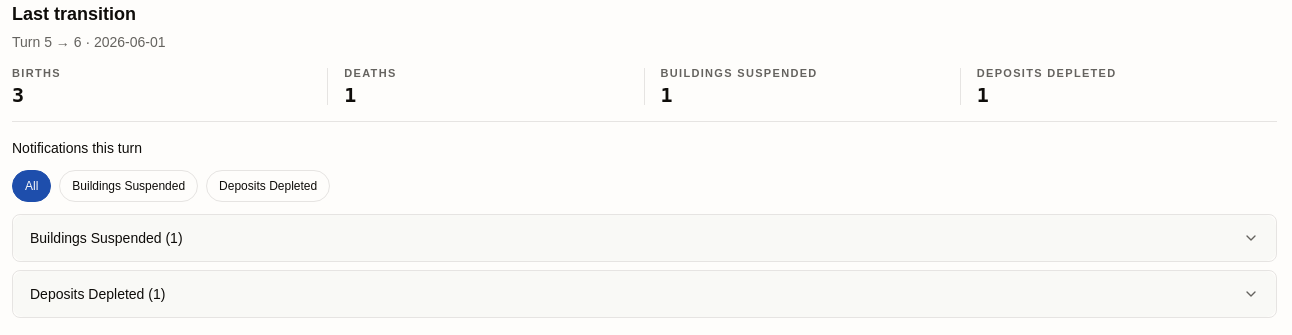
it: TurnTransitionOutcomeContent › resets filter when All chip is clicked
Click the button with aria-label "Filter by Buildings Suspended". click: (129, 186)
box: [59, 170, 198, 202]
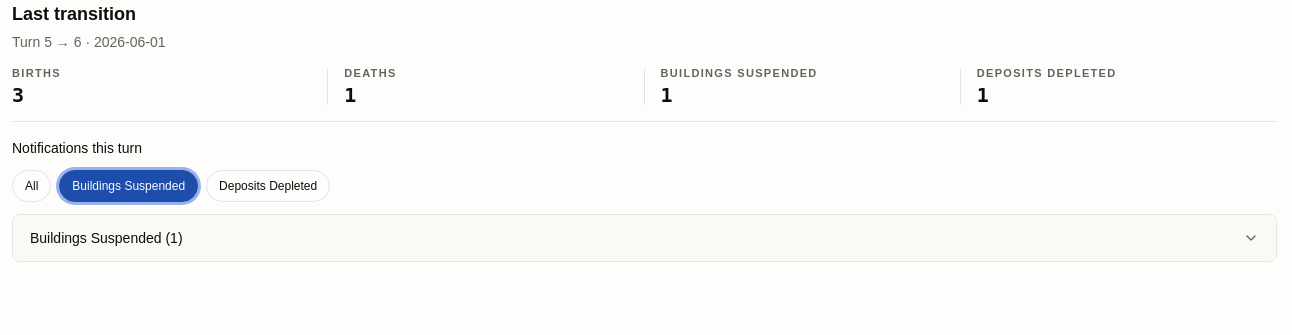
Check: the text "Buildings Suspended (1)" is shown, box [30, 228, 183, 248]
Check: the text "Deposits Depleted (1)" is not shown
Click "All" to reset
Click the button "All". click: (32, 186)
box: [12, 170, 51, 202]
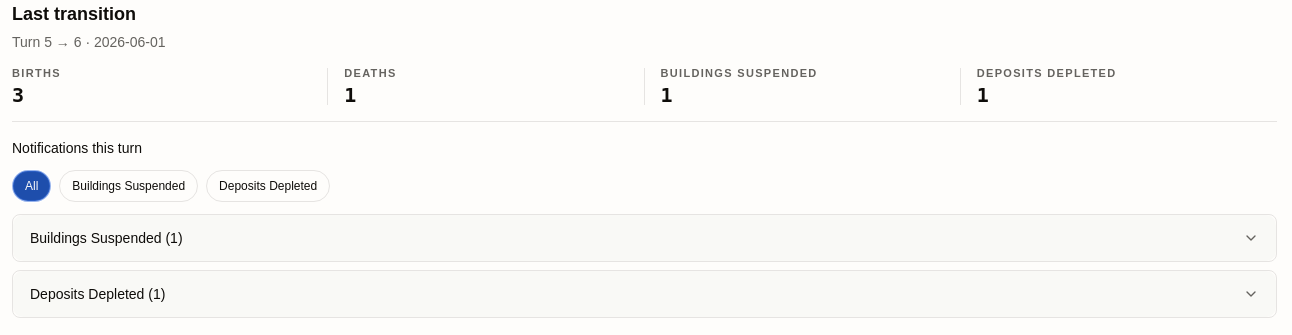
Check: the text "Buildings Suspended (1)" is shown, box [30, 228, 183, 248]
Check: the text "Deposits Depleted (1)" is shown, box [30, 284, 165, 304]
